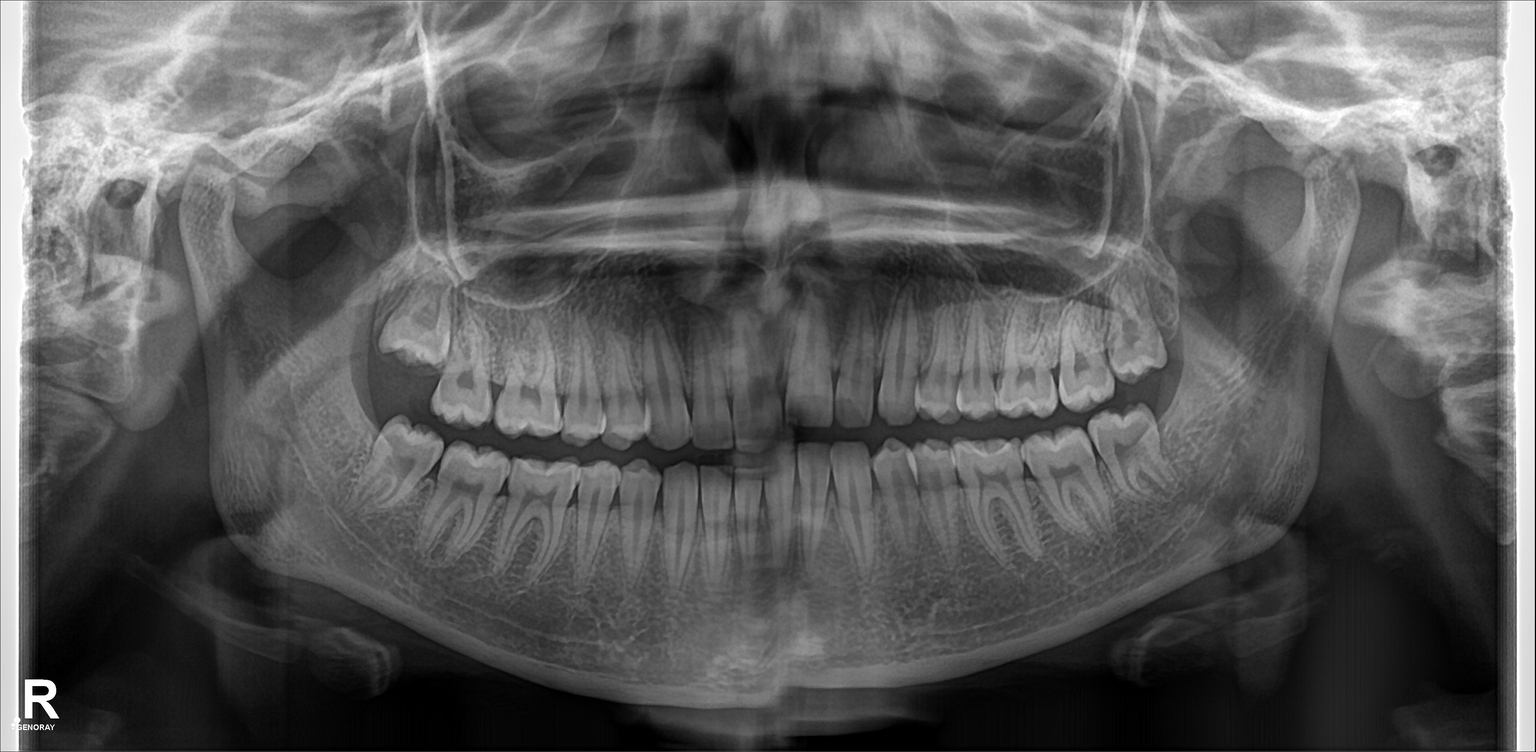Impacted Third Molar: (378, 281, 447, 364)
